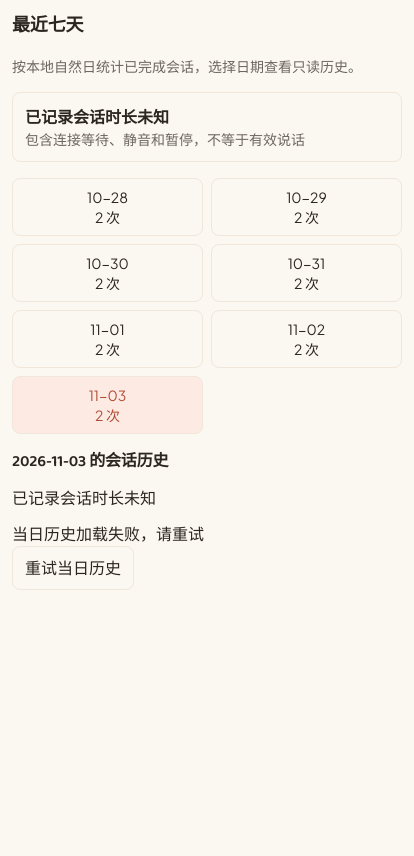
Test: WeeklyProgress 请求归属与只读历史 › 历史失败独立重试，不重新抓取七桶
The image size is (414, 856).
Check: the message shows "当日历史加载失败，请重试", box [12,523,204,544]
Click the button "重试当日历史". click: (73, 568)
box: [12,546,134,590]
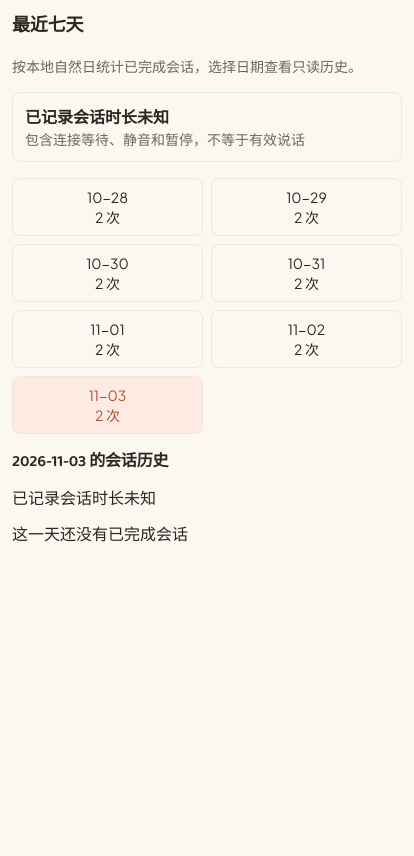
Check: the message "当日历史加载失败，请重试 重试当日历史" is gone
